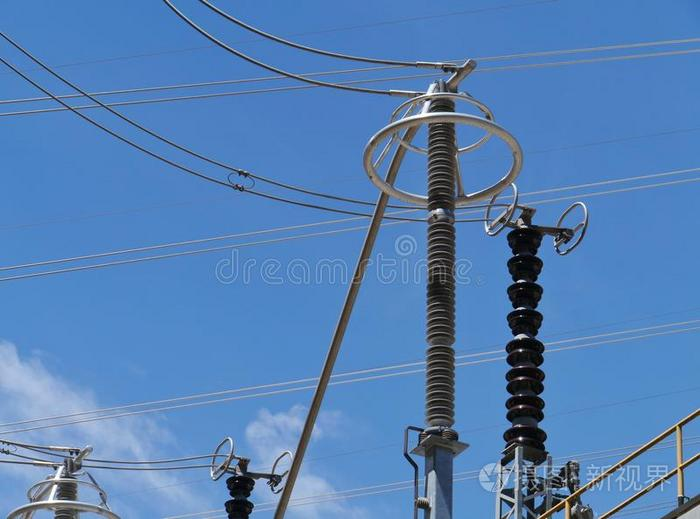insulator: (503, 229, 553, 459), (220, 476, 257, 513)
